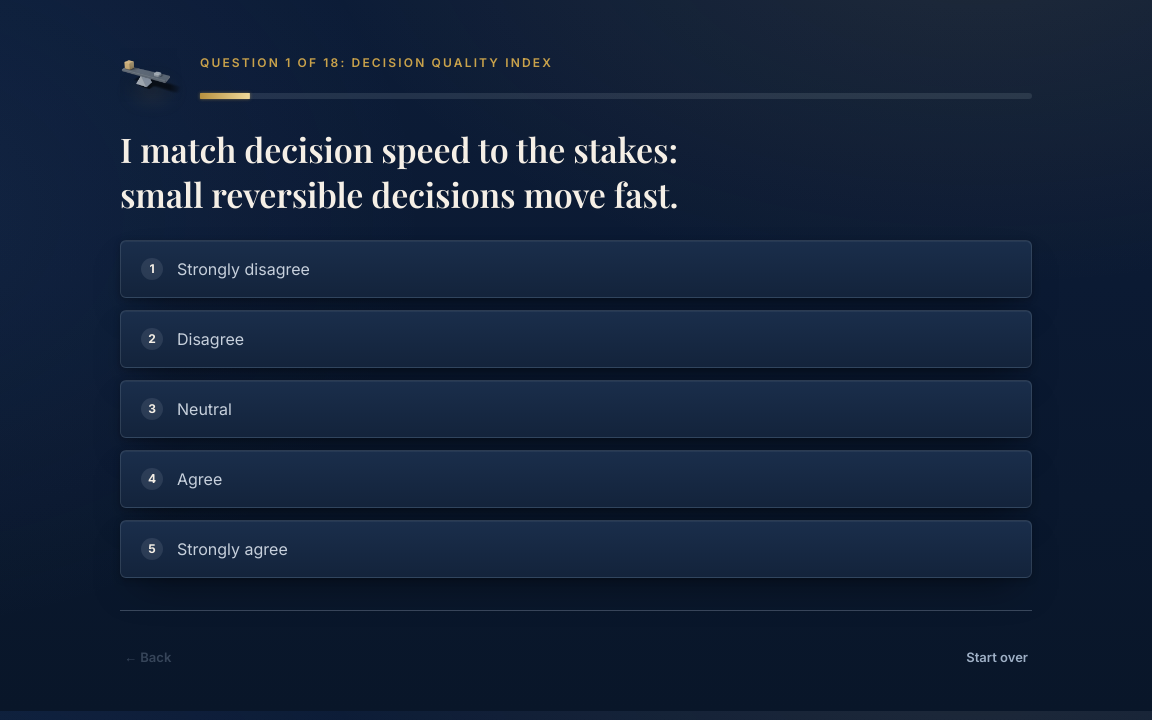
Test: quiz: a question is never skipped › two quick clicks on the same question still advance only one question
Click the button "1 Strongly disagree": (243, 269) left=120, top=240, right=1032, bottom=298
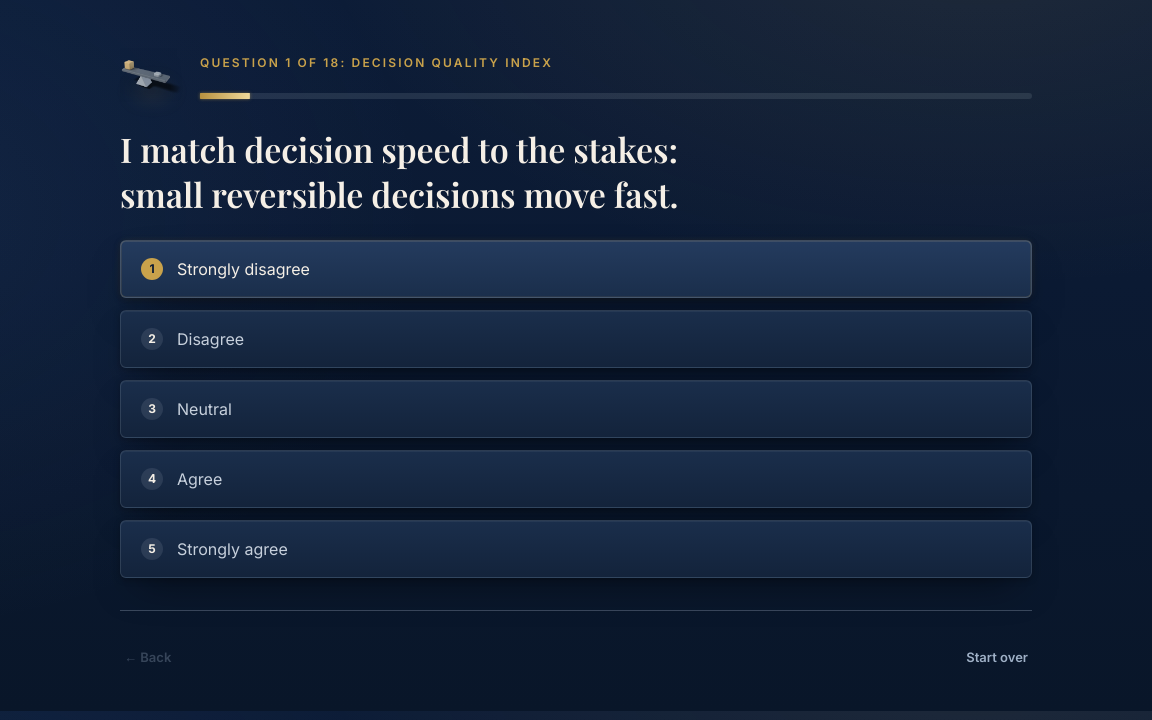
Click the button "2 Disagree": (211, 339) left=120, top=310, right=1032, bottom=368
Wait 400 ms
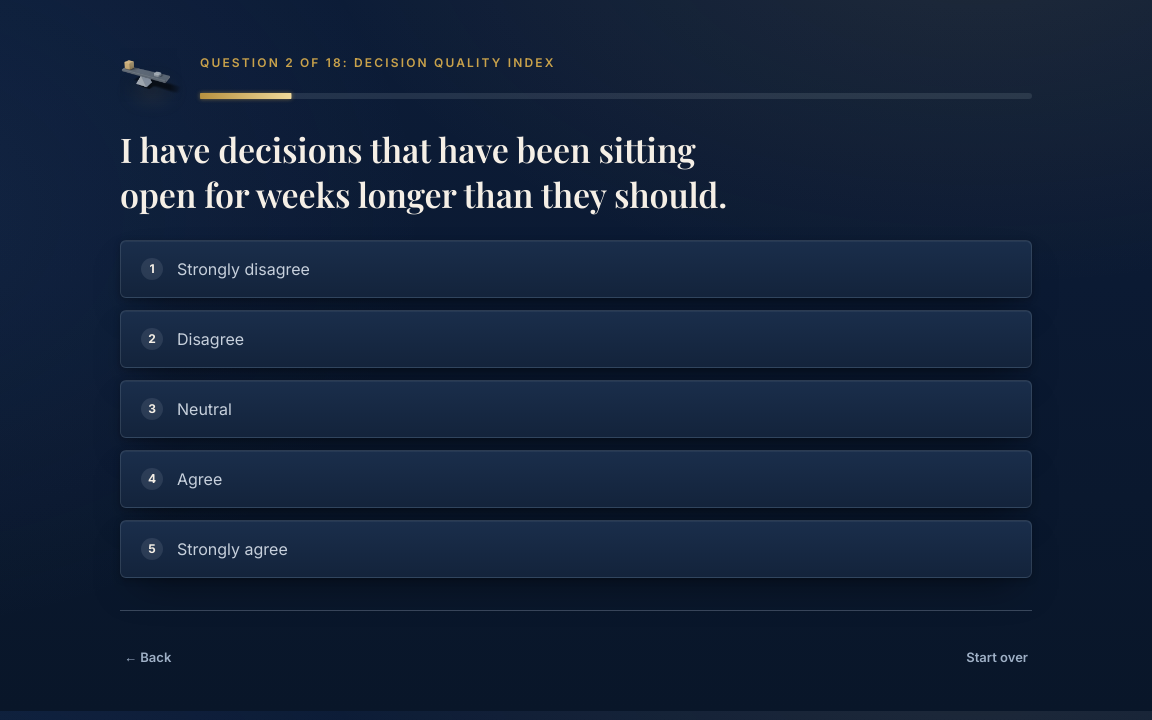
Now the text "Question 2 of 18: Decision Quality Index" is shown, box left=200, top=55, right=556, bottom=70
